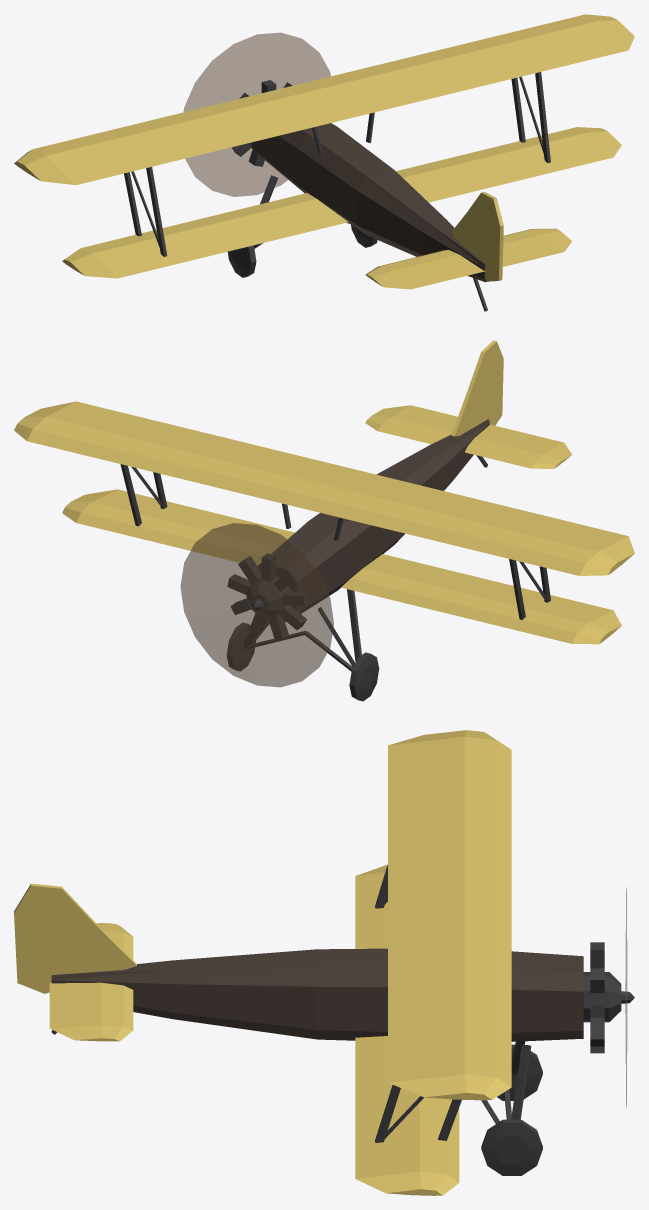
The model's file is airmail_biplane.glb.
The picture shows the model from 3 angles, top to bottom: view 1: azimuth 30°, elevation 25°; view 2: azimuth 150°, elevation 25°; view 3: azimuth 270°, elevation 25°; orthographic projection. The views are drawn at different scales.
Parts seen in each view (by area): view 1: Mailwing__Wings_ON_linen, Mailwing__Fuselage_ON_linen, Mailwing__PropellerDisc_ON_wood_dark, Mailwing__Metal_ON_iron_blackened; view 2: Mailwing__Wings_ON_linen, Mailwing__PropellerDisc_ON_wood_dark, Mailwing__Metal_ON_iron_blackened, Mailwing__Fuselage_ON_linen; view 3: Mailwing__Wings_ON_linen, Mailwing__Fuselage_ON_linen, Mailwing__Metal_ON_iron_blackened.
Part boxes in pixels (left/top/right/bottom): Mailwing__Wings_ON_linen: left=14, top=14, right=634, bottom=289; Mailwing__Fuselage_ON_linen: left=251, top=123, right=487, bottom=282; Mailwing__PropellerDisc_ON_wood_dark: left=183, top=32, right=330, bottom=196; Mailwing__Metal_ON_iron_blackened: left=124, top=72, right=550, bottom=311; Mailwing__Wings_ON_linen: left=14, top=340, right=634, bottom=644; Mailwing__PropellerDisc_ON_wood_dark: left=180, top=523, right=333, bottom=687; Mailwing__Metal_ON_iron_blackened: left=120, top=455, right=550, bottom=701; Mailwing__Fuselage_ON_linen: left=258, top=419, right=489, bottom=621; Mailwing__Wings_ON_linen: left=14, top=730, right=511, bottom=1195; Mailwing__Fuselage_ON_linen: left=51, top=948, right=583, bottom=1041; Mailwing__Metal_ON_iron_blackened: left=51, top=864, right=634, bottom=1175.
Bounding box in the file's own units: 10.06 × 3.26 × 7.28.
